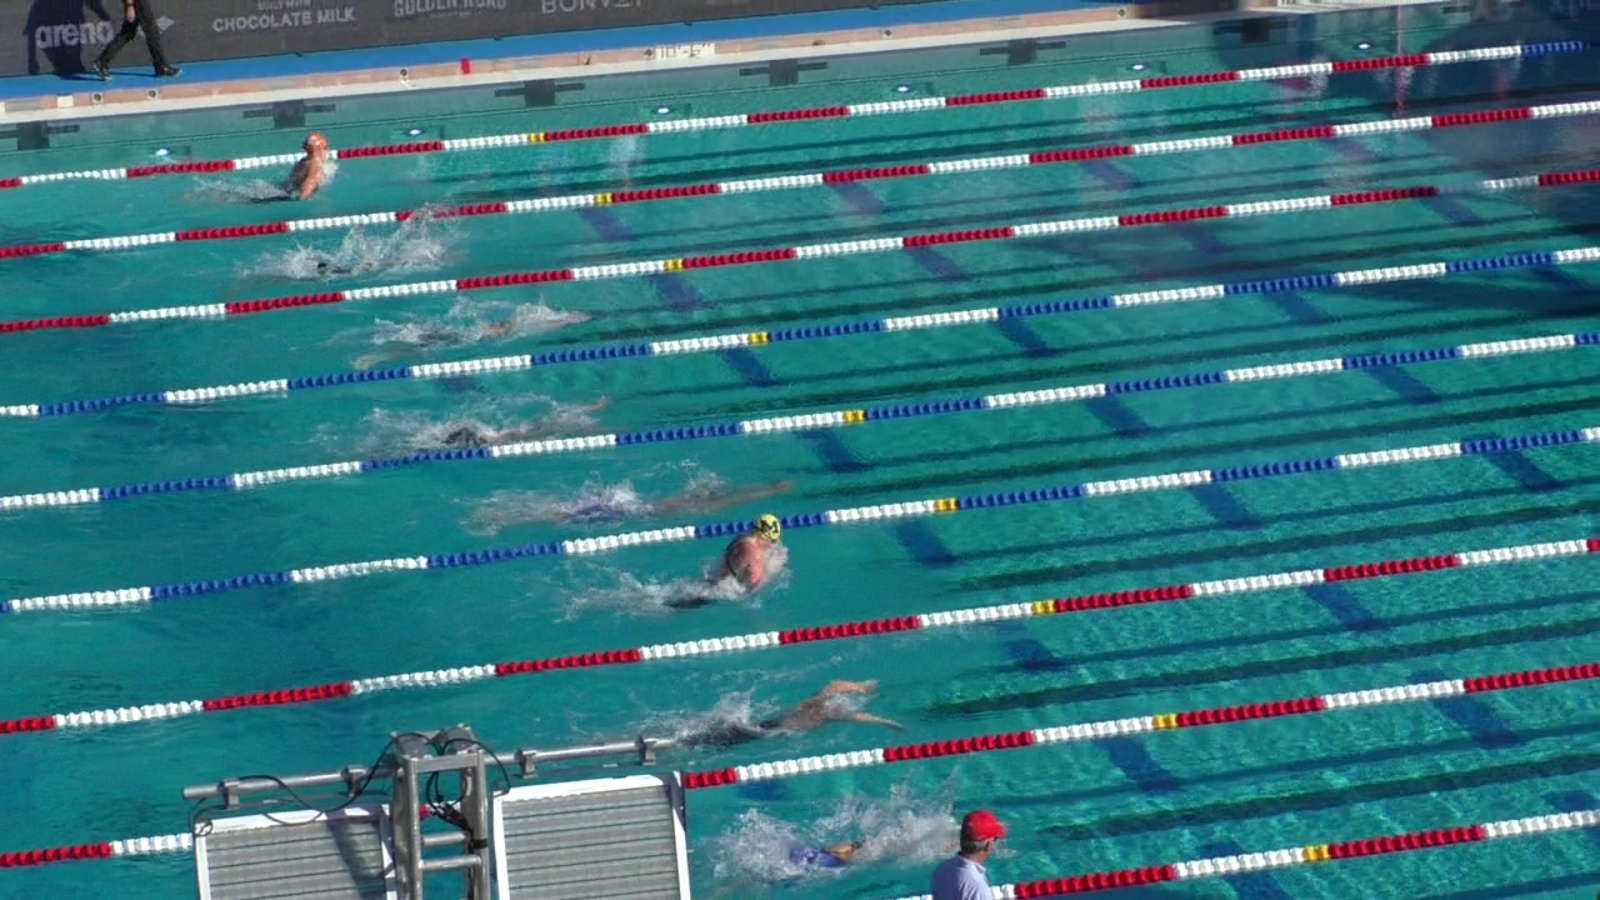swimmerw: (741, 811, 947, 888), (609, 508, 786, 597), (527, 475, 793, 527), (669, 679, 895, 741), (438, 395, 613, 456), (202, 136, 342, 209), (393, 308, 589, 347), (298, 231, 442, 284)
